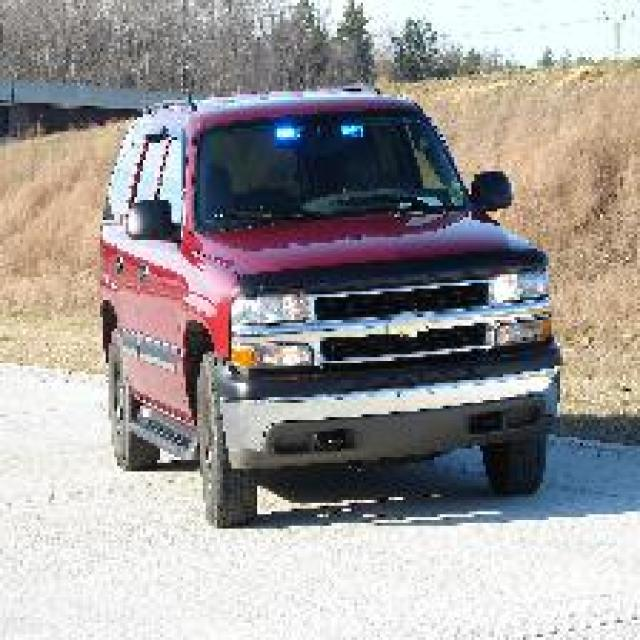Car: (94, 80, 563, 526)
